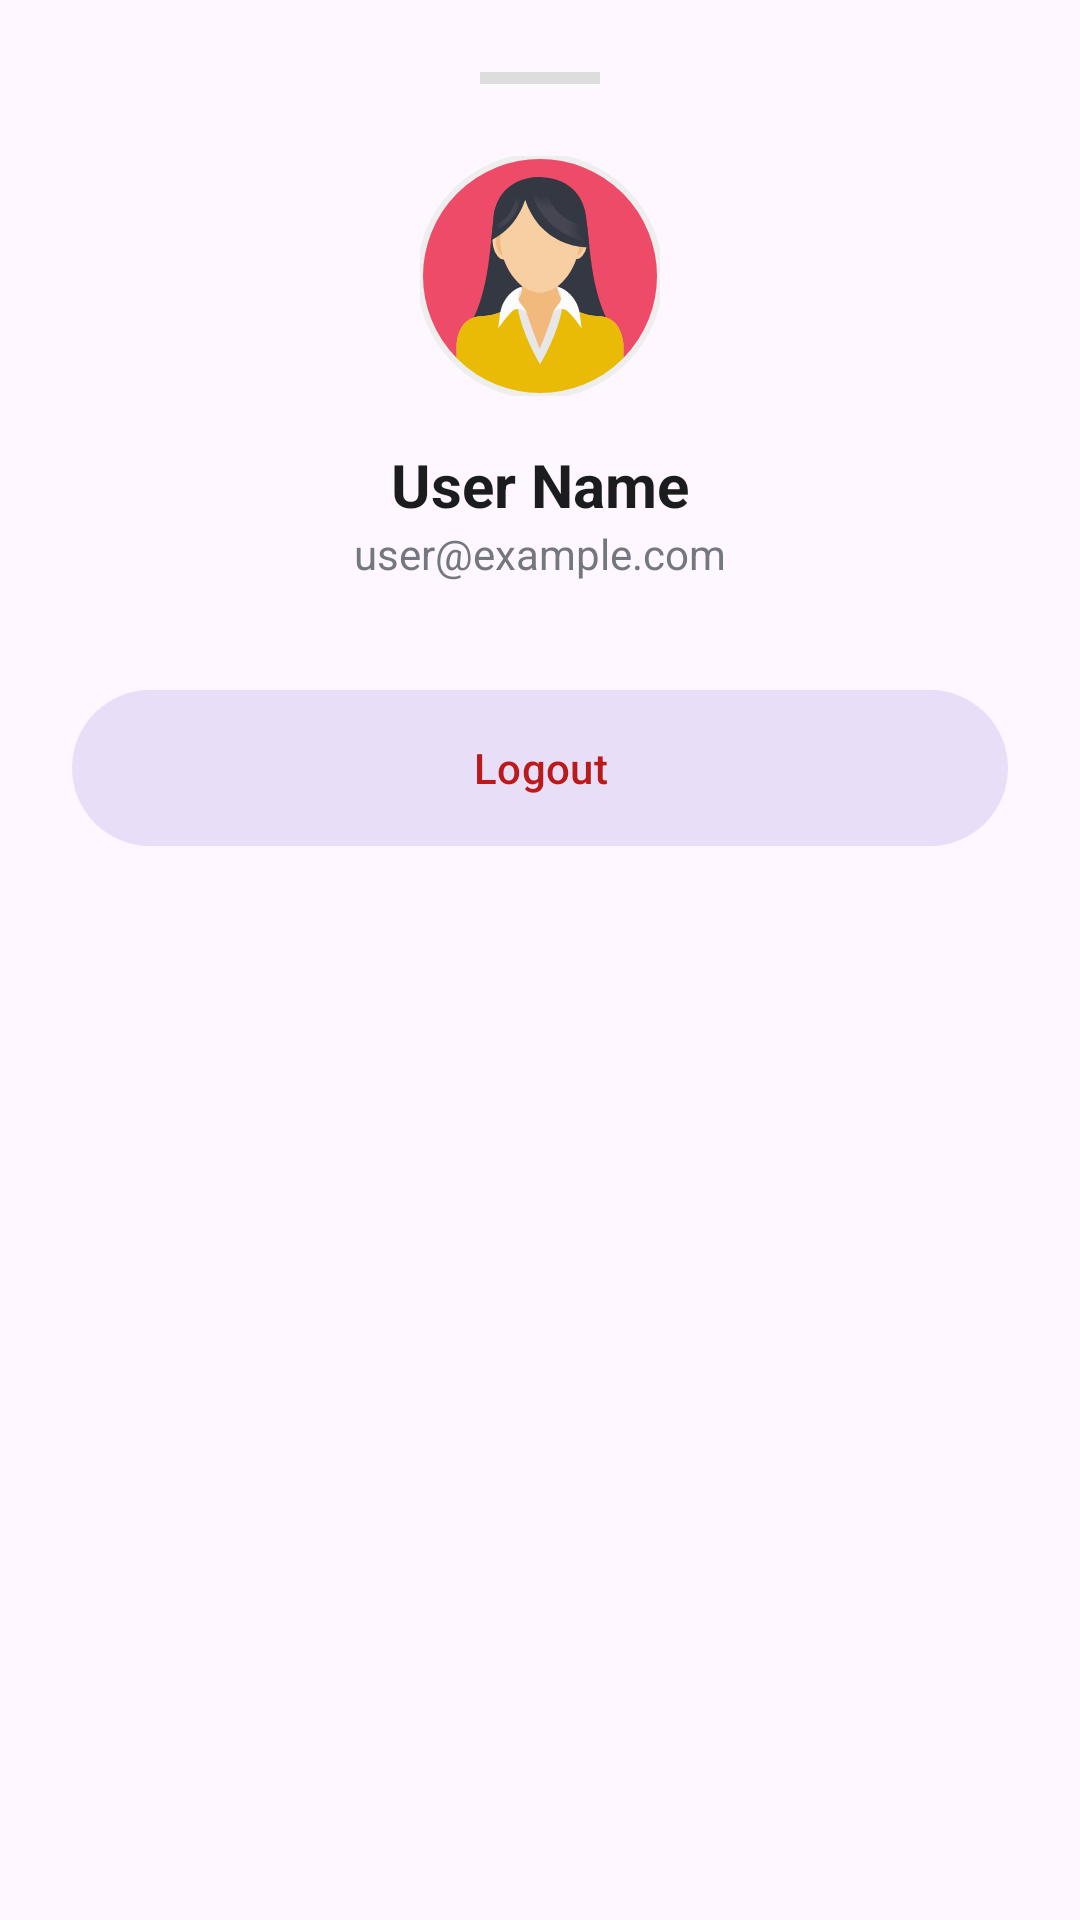

Icon click points for this 1080x1920 phone screenshot, format [x,y]:
user profile: [540,276]
